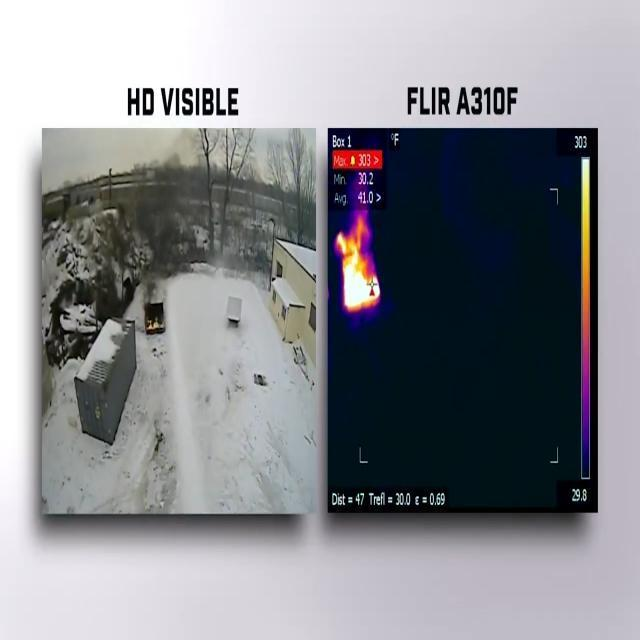fire: (337, 217, 383, 312)
